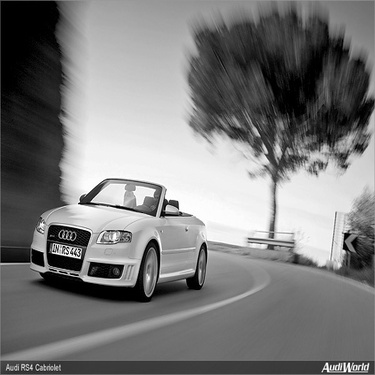car: (23, 168, 213, 304)
